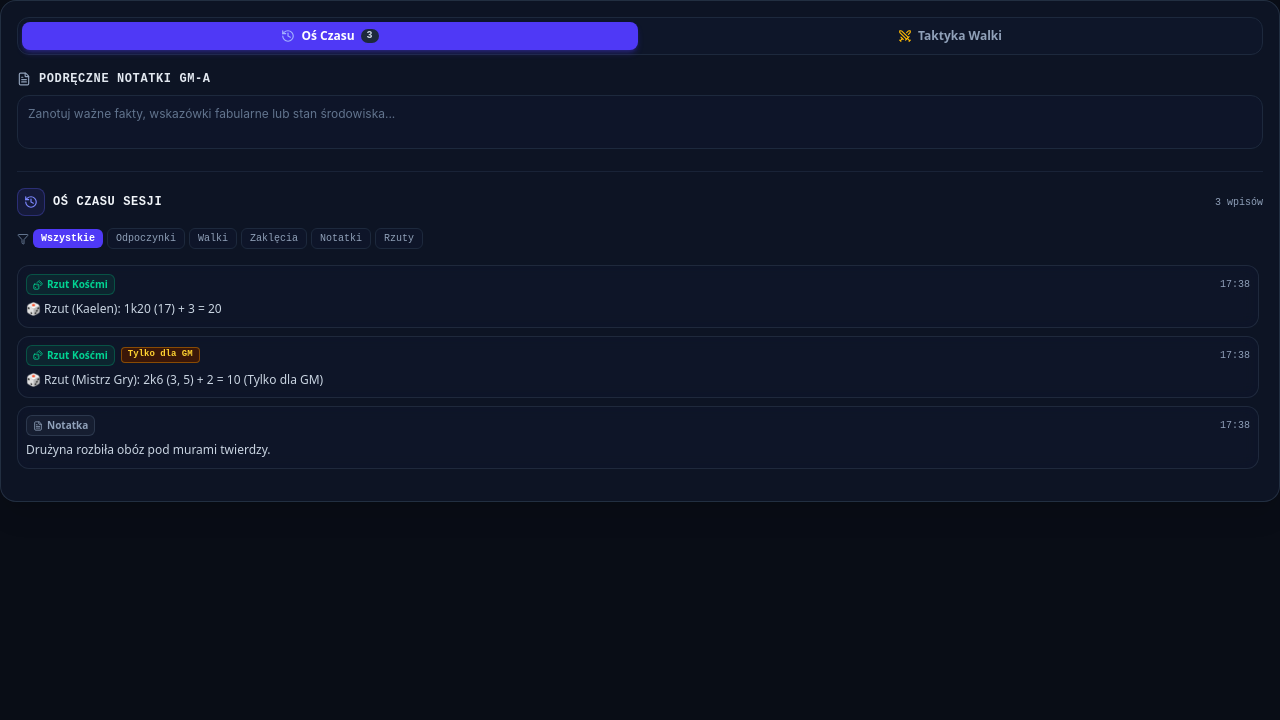
it: Dice Integration (Chunk 10.4) › TimelineSidebar DICE_ROLL display & filtering › filters logs by Rzuty filter
The image size is (1280, 720).
Click the button "Rzuty" at {"x": 399, "y": 238}, box 375,228 -> 423,249
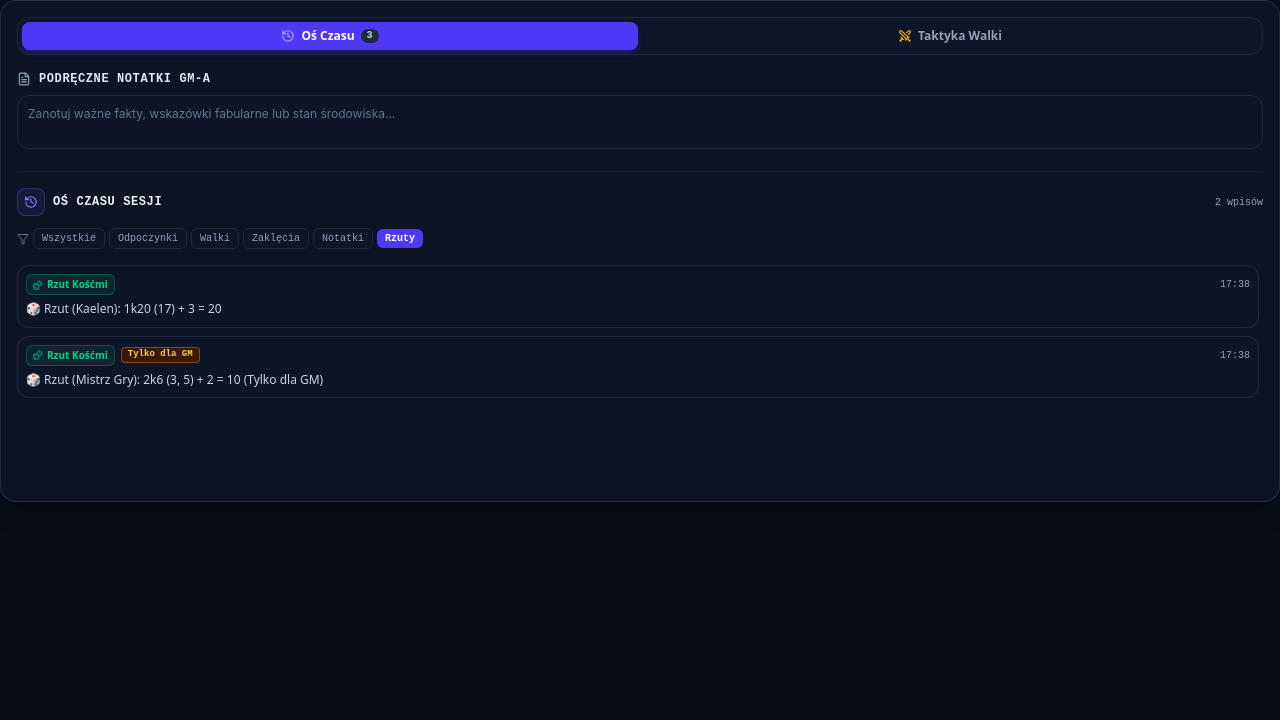
Expected: the text "🎲 Rzut (Kaelen): 1k20 (17) + 3 = 20" is shown, 26,300 -> 222,317
Expected: the button "Drużyna rozbiła obóz pod murami twierdzy." is gone
